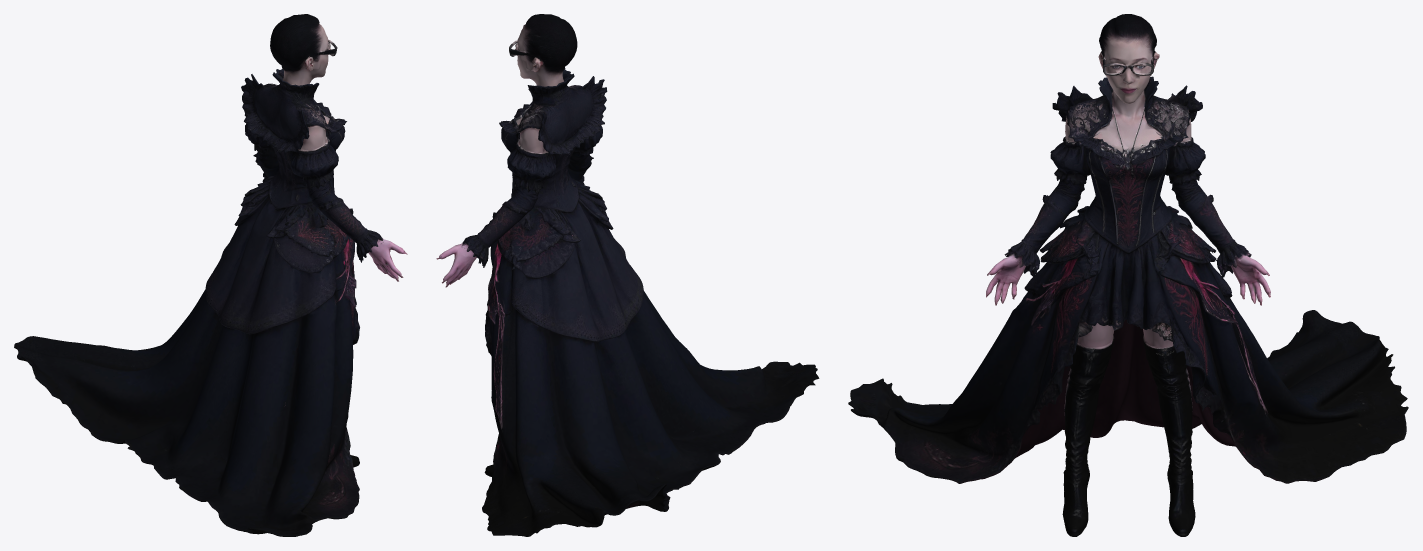
File: freak-a-zoid.glb
The picture shows the model from 3 angles, left to right: view 1: azimuth 30°, elevation 25°; view 2: azimuth 150°, elevation 25°; view 3: azimuth 270°, elevation 25°; orthographic projection. The views are drawn at different scales.
Parts seen in each view (by area): view 1: tripo_node_0203bee9-bc54-45bf-8789-02bf1a6891bb; view 2: tripo_node_0203bee9-bc54-45bf-8789-02bf1a6891bb; view 3: tripo_node_0203bee9-bc54-45bf-8789-02bf1a6891bb.
Part boxes in pixels (x1,y1,x2,y2): tripo_node_0203bee9-bc54-45bf-8789-02bf1a6891bb: (14, 14, 407, 536); tripo_node_0203bee9-bc54-45bf-8789-02bf1a6891bb: (436, 14, 819, 536); tripo_node_0203bee9-bc54-45bf-8789-02bf1a6891bb: (848, 14, 1408, 536).
Size of the model in its own units: 0.5715 by 0.9842 by 1.
1 material, 1 textured.
